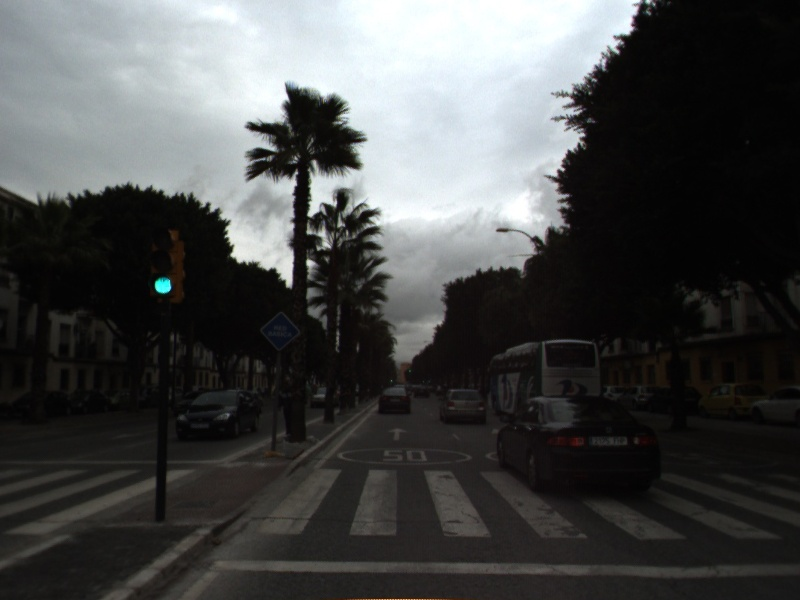STRAIGHT: (386, 425, 410, 442)
